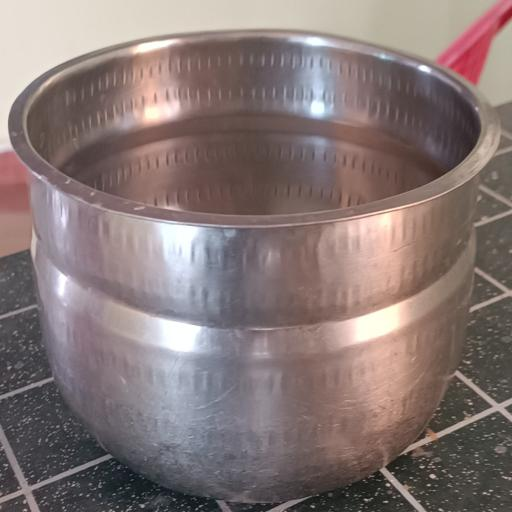vessel: (11, 32, 498, 501)
